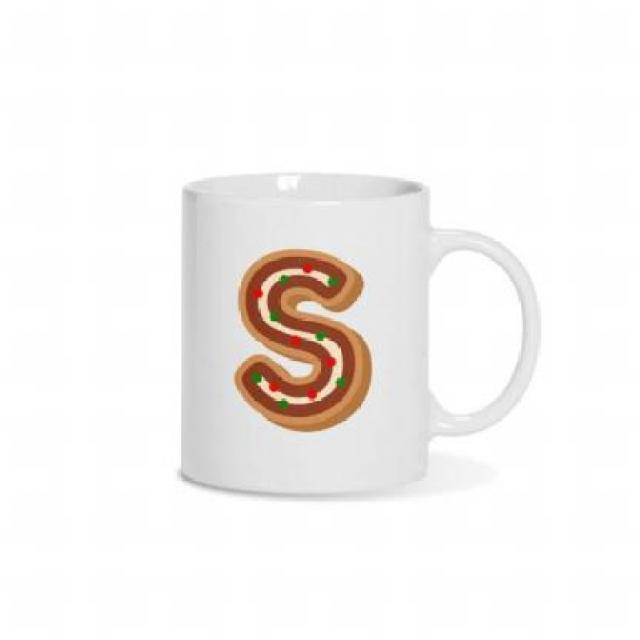taza: (162, 155, 546, 500)
